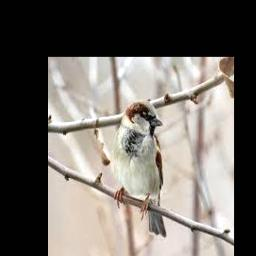Sparrow: (113, 100, 167, 237)
